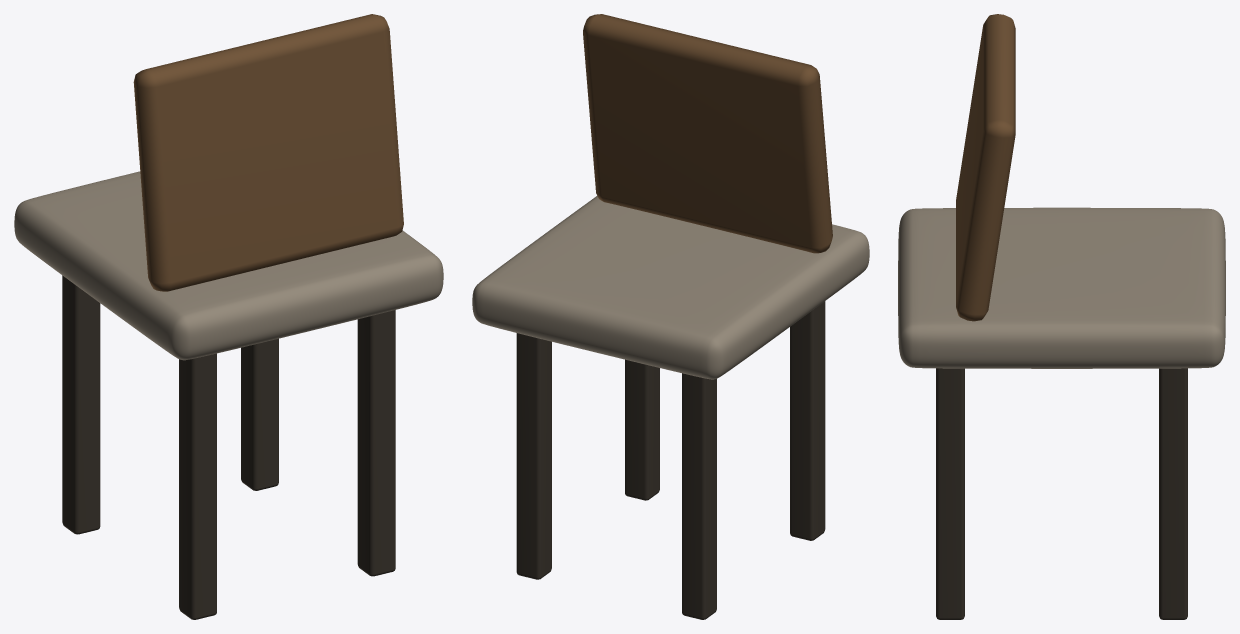
Rendered from chair.glb.
3 views of the same model, side by side, from view 1: azimuth 30°, elevation 25°; view 2: azimuth 150°, elevation 25°; view 3: azimuth 270°, elevation 25° (orthographic). The views are drawn at different scales.
Parts seen in each view (by area): view 1: leg; view 2: leg; view 3: leg.
Part boxes in pixels (x1,y1,x2,y2): leg: (14, 14, 443, 619); leg: (472, 14, 869, 619); leg: (898, 14, 1225, 619).
Bounding box in the file's own units: 0.4596 × 0.8518 × 0.4996.
